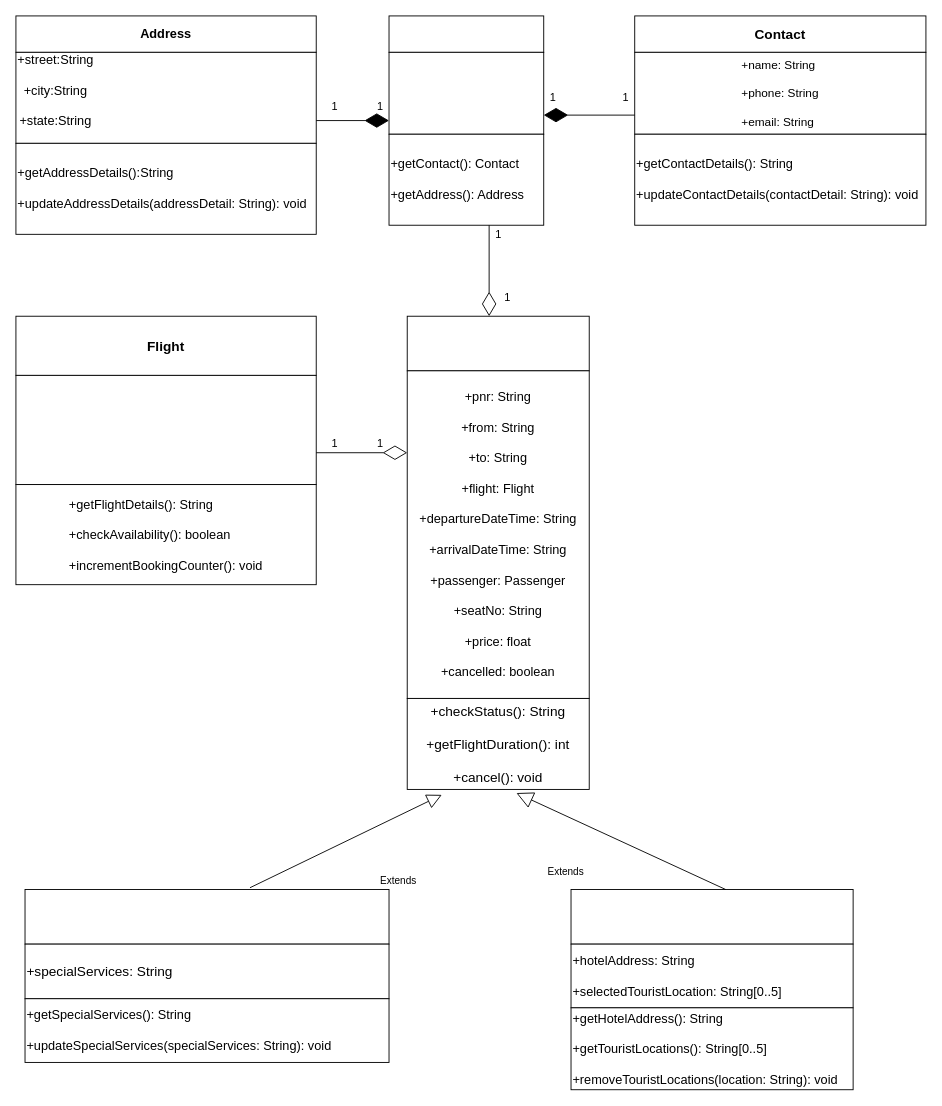
This 942x1106 diagram has some shape labels left out. Here are the shapes that lost their labels. From the top down, the centre of each, then its label:
the point at 466,33: Passenger
the point at 466,92: +id: int +address: Address +contact: Contact
the point at 497,343: Ticket
the point at 165,429: +flightNumber: String +airline: String +capacity: int -bookedSeats: int
the point at 206,916: Regular Ticket
the point at 711,916: TouristTicket
